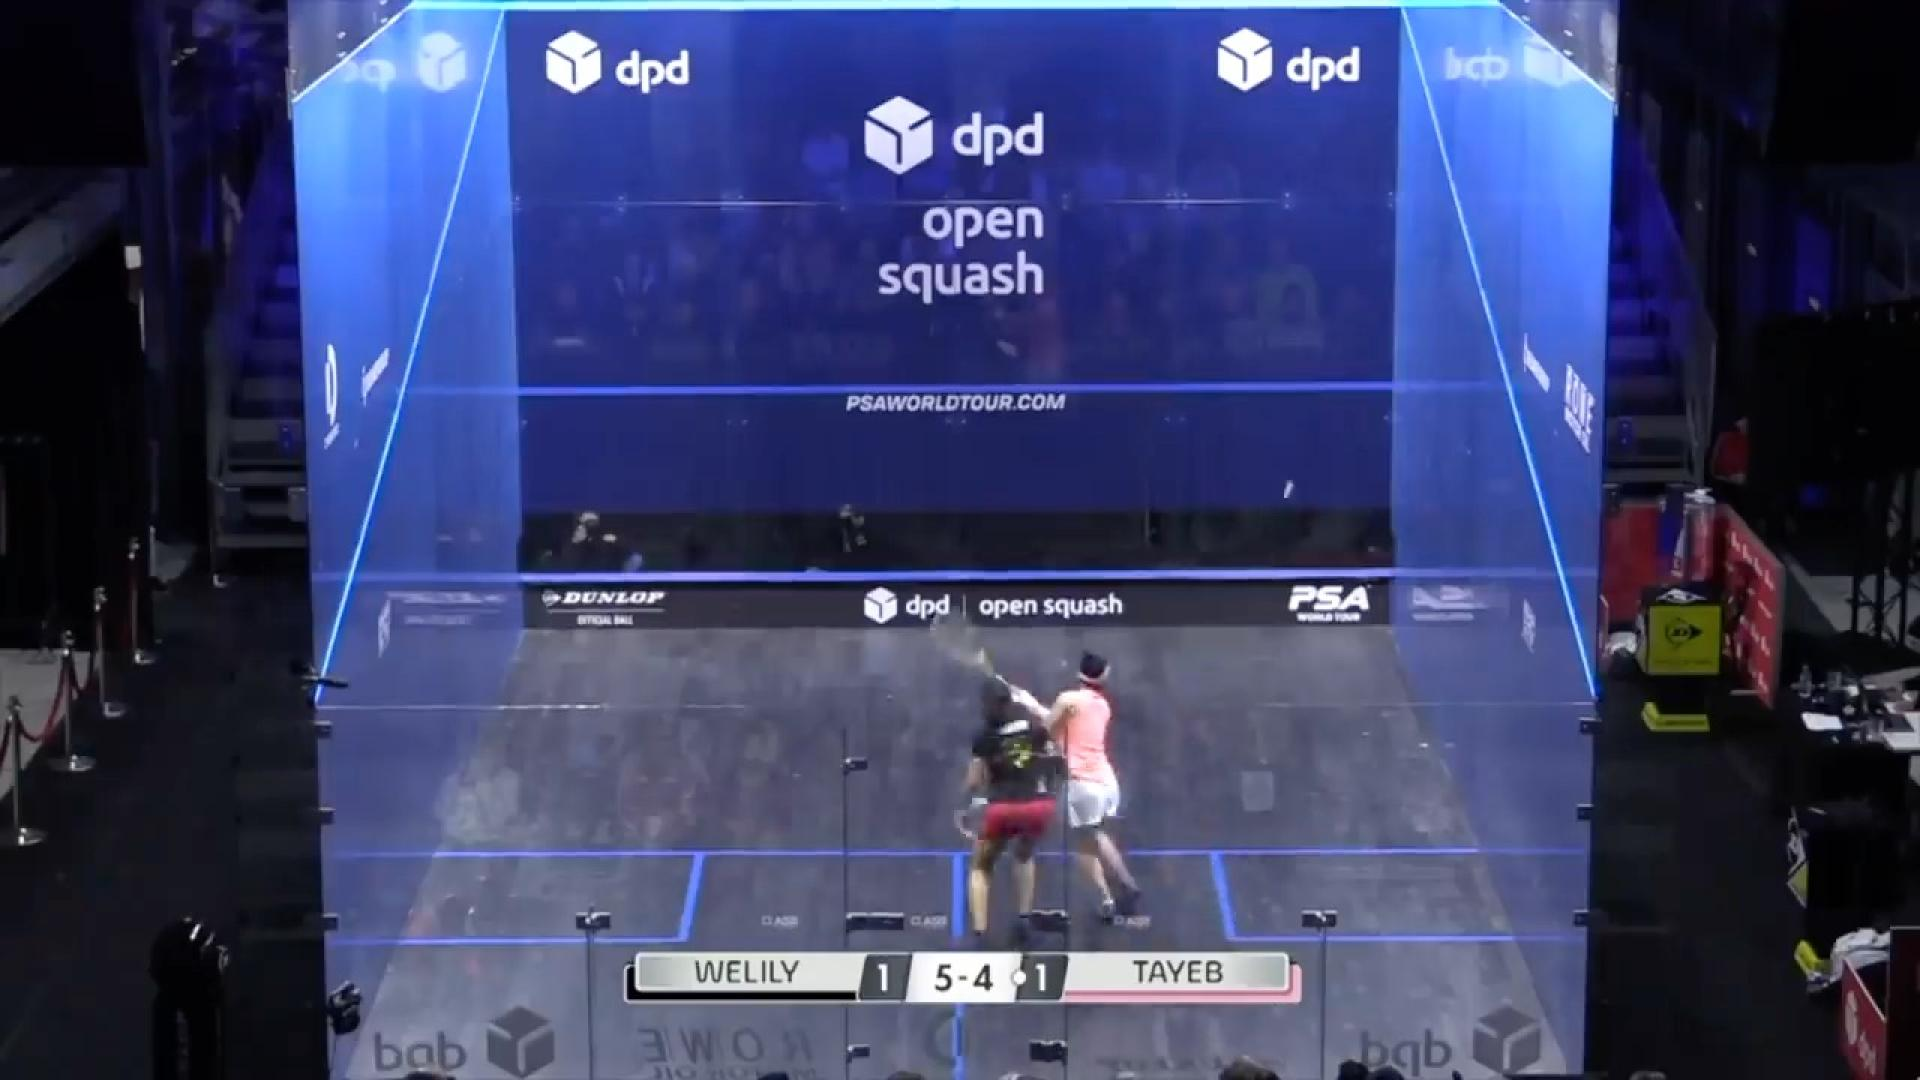Squash-Ball: (1263, 460, 1315, 517)
